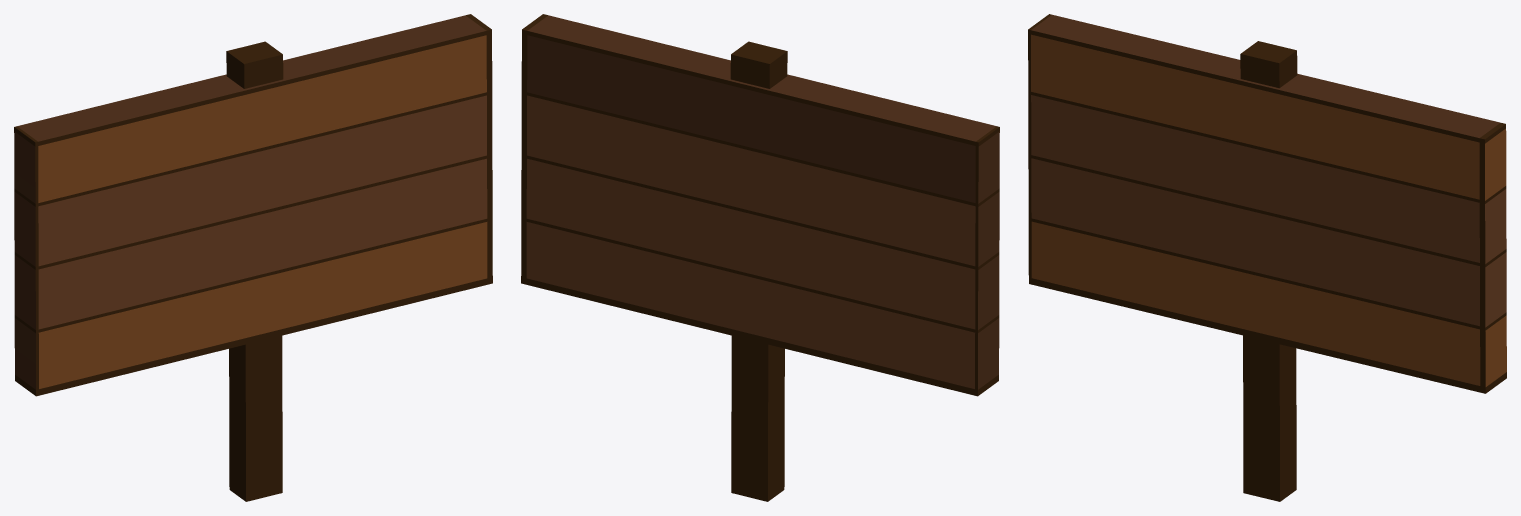
Rendered from Sign_Post.fbx.
The picture shows the model from 3 angles, left to right: view 1: azimuth 30°, elevation 25°; view 2: azimuth 150°, elevation 25°; view 3: azimuth 330°, elevation 25°; orthographic projection.
Visible parts, largest first — view 1: Signpost; view 2: Signpost; view 3: Signpost.
Boxes of the visible parts, x1,y1,x2,y2 form: Signpost: [14, 14, 492, 501]; Signpost: [521, 14, 999, 501]; Signpost: [1028, 14, 1506, 501].
Size of the model in its own units: 244 by 223 by 19.58.
